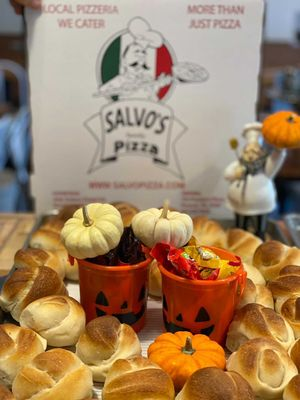pizza: (160, 262, 242, 346), (77, 257, 151, 327)
